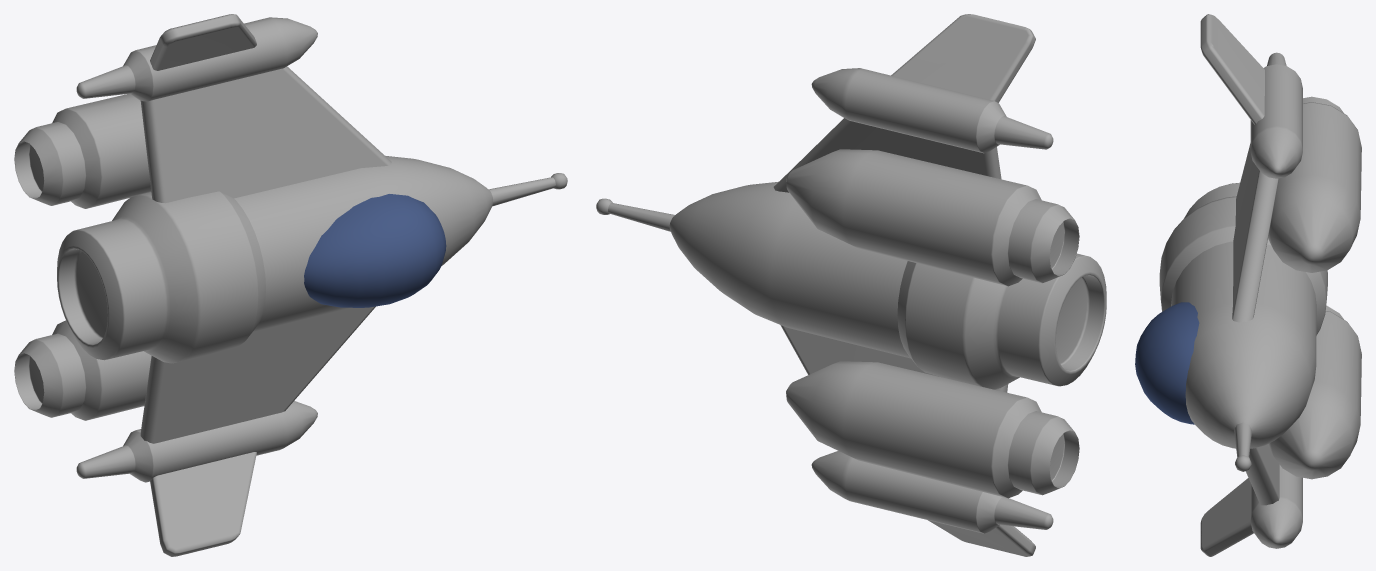
File: ship.glb
The picture shows the model from 3 angles, left to right: view 1: azimuth 30°, elevation 25°; view 2: azimuth 150°, elevation 25°; view 3: azimuth 270°, elevation 25°; orthographic projection. The views are drawn at different scales.
Visible parts, largest first — view 1: Ship2; view 2: Ship2; view 3: Ship2.
Boxes of the visible parts, left/top/right/bottom form: Ship2: left=14, top=14, right=567, bottom=556; Ship2: left=596, top=14, right=1106, bottom=556; Ship2: left=1135, top=14, right=1361, bottom=556.
Size of the model in its own units: 7.53 by 7.57 by 3.03.
